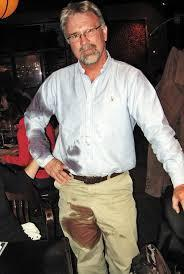oil: (63, 201, 100, 250), (63, 154, 90, 174), (29, 127, 46, 156), (32, 94, 52, 116), (63, 141, 86, 158)
